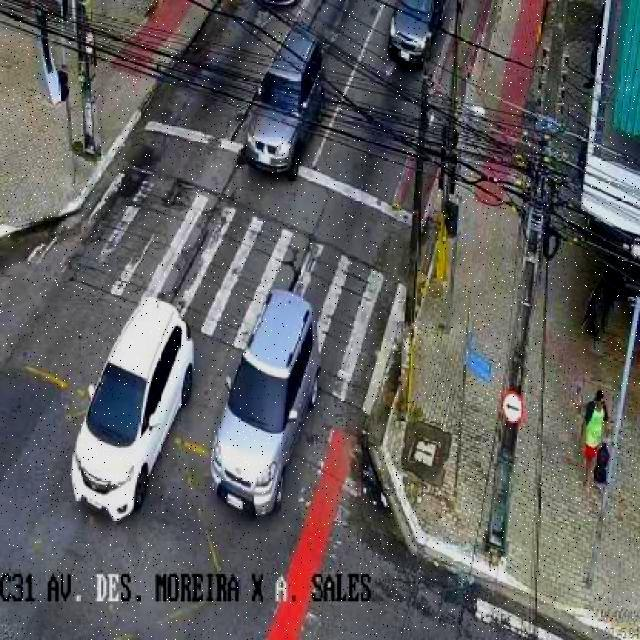Car: (210, 291, 326, 534), (248, 23, 325, 182), (382, 0, 445, 70)
Van: (64, 289, 199, 526)
